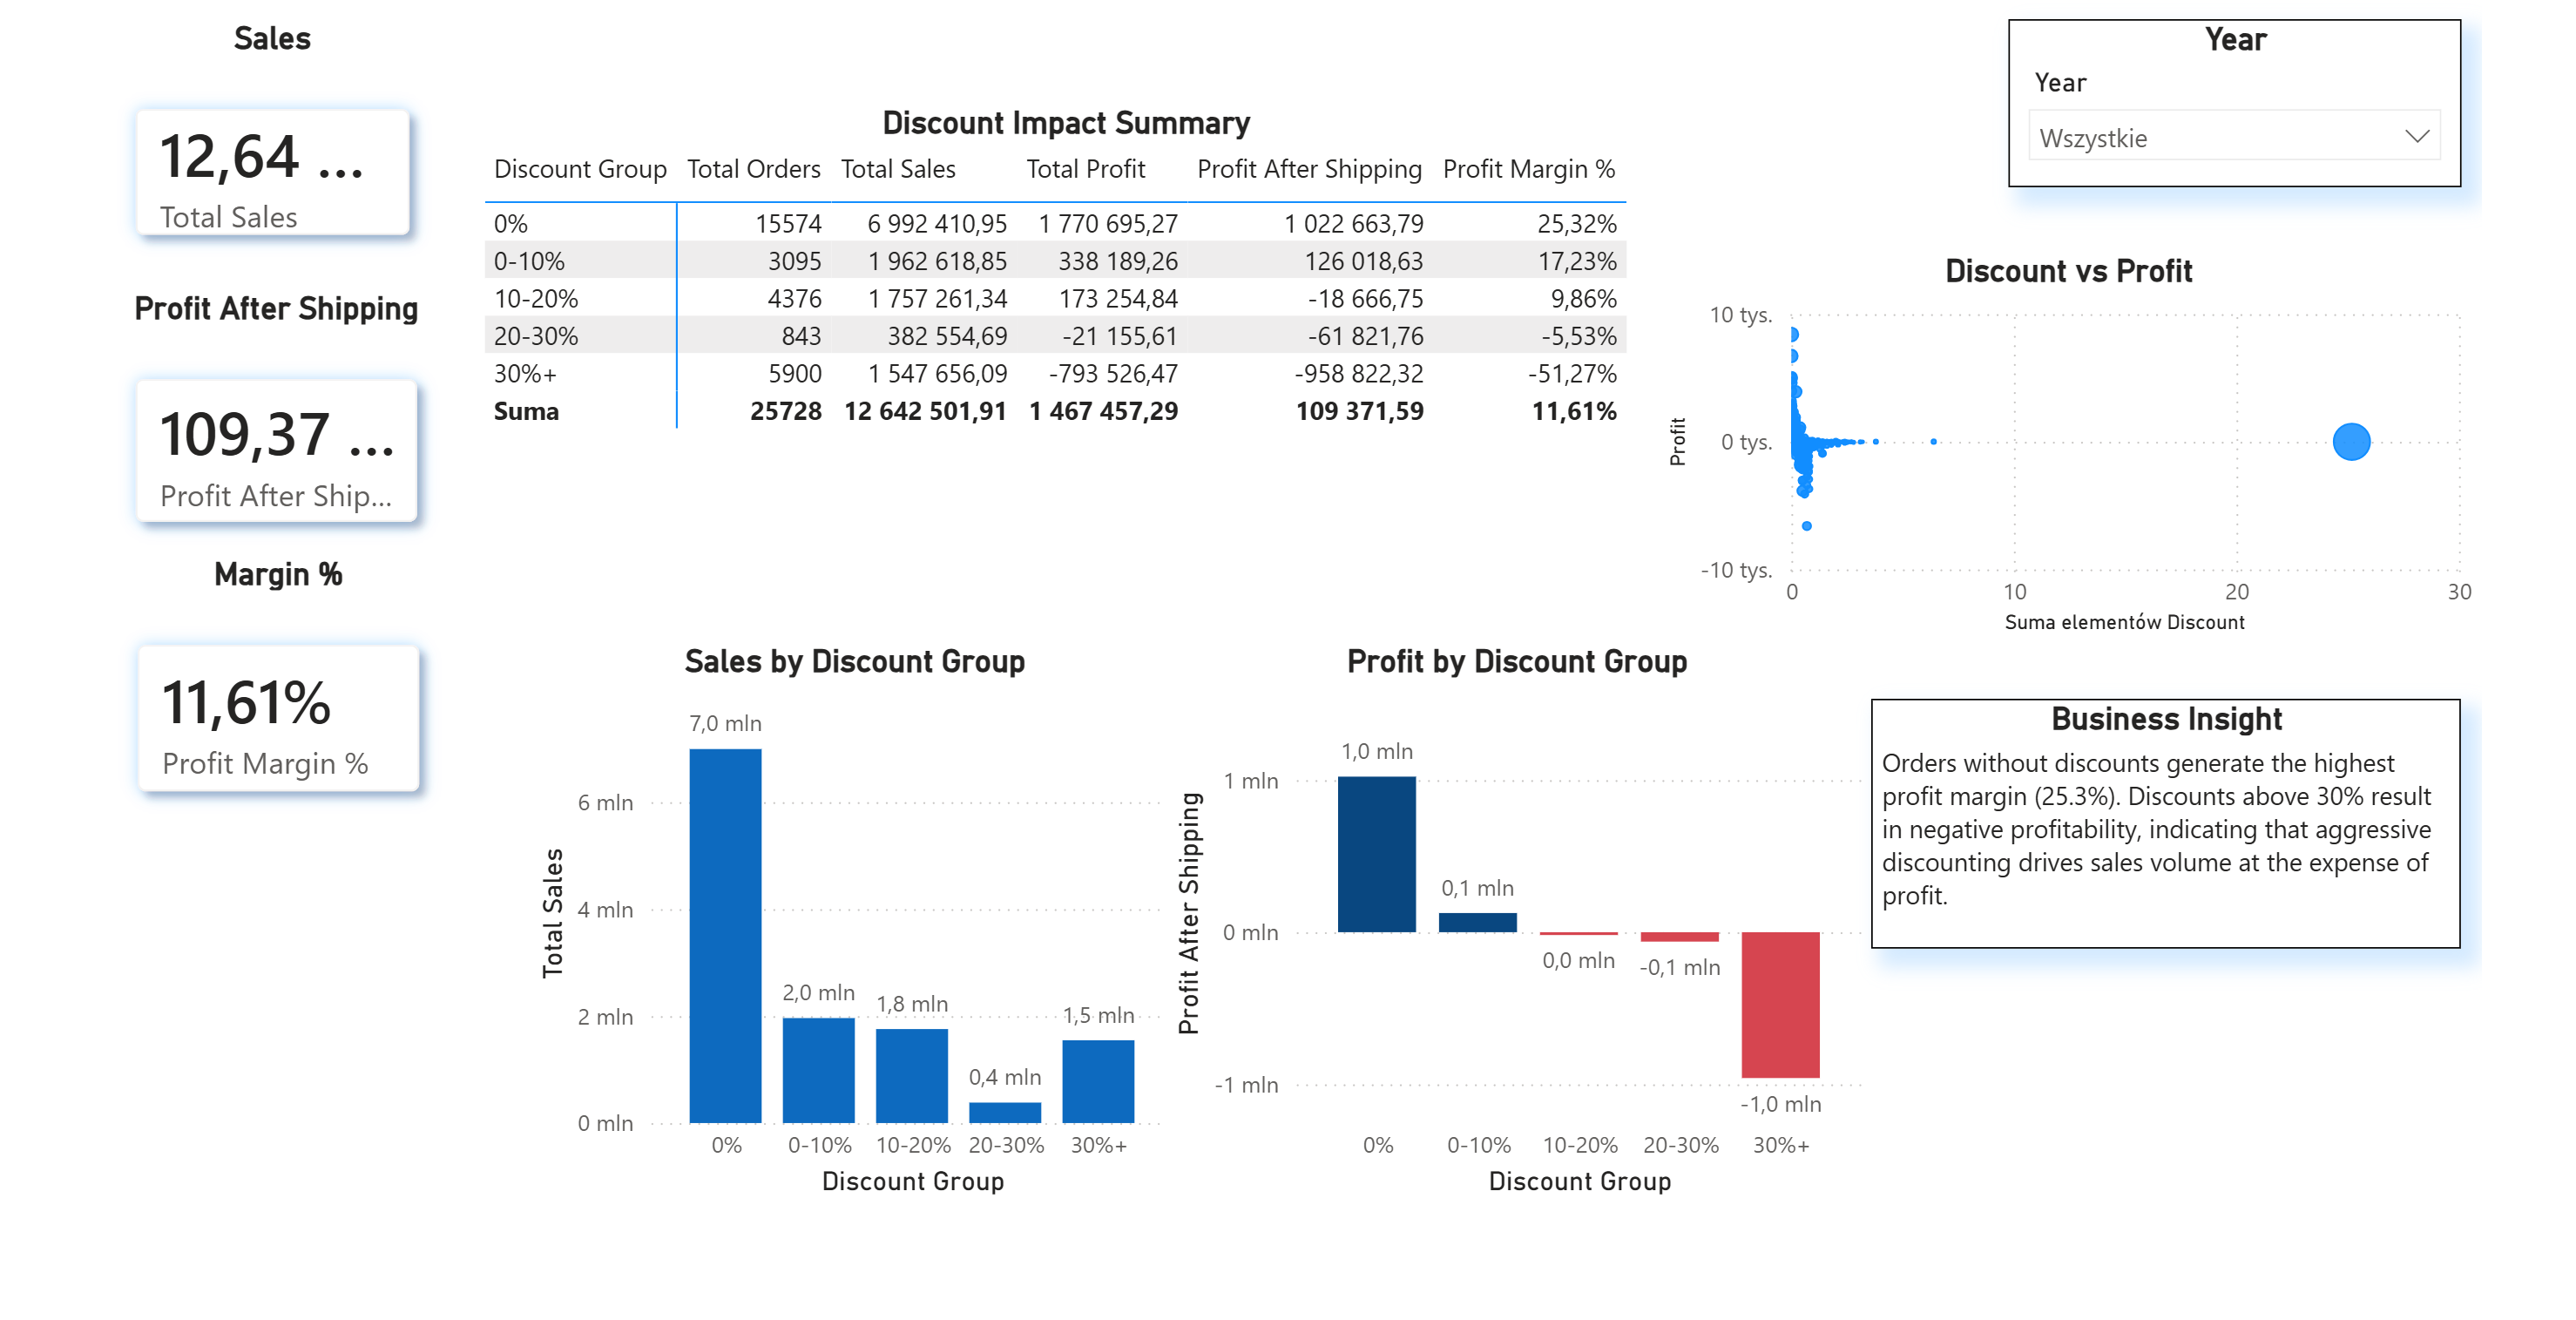

The dashboard page shown, as its layout file describes it:
{"tool":"powerbi","page":{"name":"Discount Analysis","canvas":[1280,720],"ordinal":2},"visuals":[{"type":"slicer","title":"Year","fields":{"Values":["DimDate.Year"]},"box":[1027.8,13.8,241.4,89.7],"z":0},{"type":"pivotTable","title":"Discount Impact Summary","fields":{"Values":["Measures (2).Total Orders","Measures (2).Total Sales","Measures (2).Total Profit","Measures (2).Profit After Shipping","Measures (2).Profit Margin %"],"Rows":["Orders.Discount Group"]},"box":[210.3,58.7,631,209.1],"z":1000},{"type":"clusteredColumnChart","title":"Sales by Discount Group","fields":{"Category":["Orders.Discount Group"],"Y":["Measures (2).Total Sales"]},"box":[238.5,346.1,349.7,299.6],"z":1001},{"type":"clusteredColumnChart","title":"Profit by Discount Group","fields":{"Category":["Orders.Discount Group"],"Y":["Measures (2).Profit After Shipping"]},"box":[577.2,346.1,377.9,299.6],"z":1002},{"type":"scatterChart","title":"Discount vs Profit","fields":{"X":["Sum(Orders.Discount)"],"Y":["Orders.Profit"],"Size":["Sum(Orders.Sales)"]},"box":[841.3,138.2,439,207.9],"z":1003},{"type":"cardVisual","title":"Sales","fields":{"Data":["Measures (2).Total Sales"]},"box":[0,13.7,204.5,144.1],"z":1004},{"type":"cardVisual","title":"Profit After Shipping","fields":{"Data":["Measures (2).Profit After Shipping"]},"box":[0,157.8,208.6,153.7],"z":1005},{"type":"cardVisual","title":"Margin %","fields":{"Data":["Measures (2).Profit Margin %"]},"box":[1.4,299.1,208.6,155.1],"z":1006},{"type":"textbox","box":[1,479,209,167],"z":1007},{"type":"textbox","title":"Business Insight","box":[955,376.6,314.3,133.3],"z":1008}]}

Visuals, with their boxes on the page's 1280x720 design canvas (x1, y1, x2, y2). These are canvas units, not pixel positions in the 2576x1320 screenshot, which may show the page scaled, cropped or inside an application window:
"Year" slicer: region(1028, 14, 1269, 104)
"Discount Impact Summary" pivotTable: region(210, 59, 841, 268)
"Sales by Discount Group" clusteredColumnChart: region(238, 346, 588, 646)
"Profit by Discount Group" clusteredColumnChart: region(577, 346, 955, 646)
"Discount vs Profit" scatterChart: region(841, 138, 1280, 346)
"Sales" cardVisual: region(0, 14, 204, 158)
"Profit After Shipping" cardVisual: region(0, 158, 209, 312)
"Margin %" cardVisual: region(1, 299, 210, 454)
textbox: region(1, 479, 210, 646)
"Business Insight" textbox: region(955, 377, 1269, 510)
